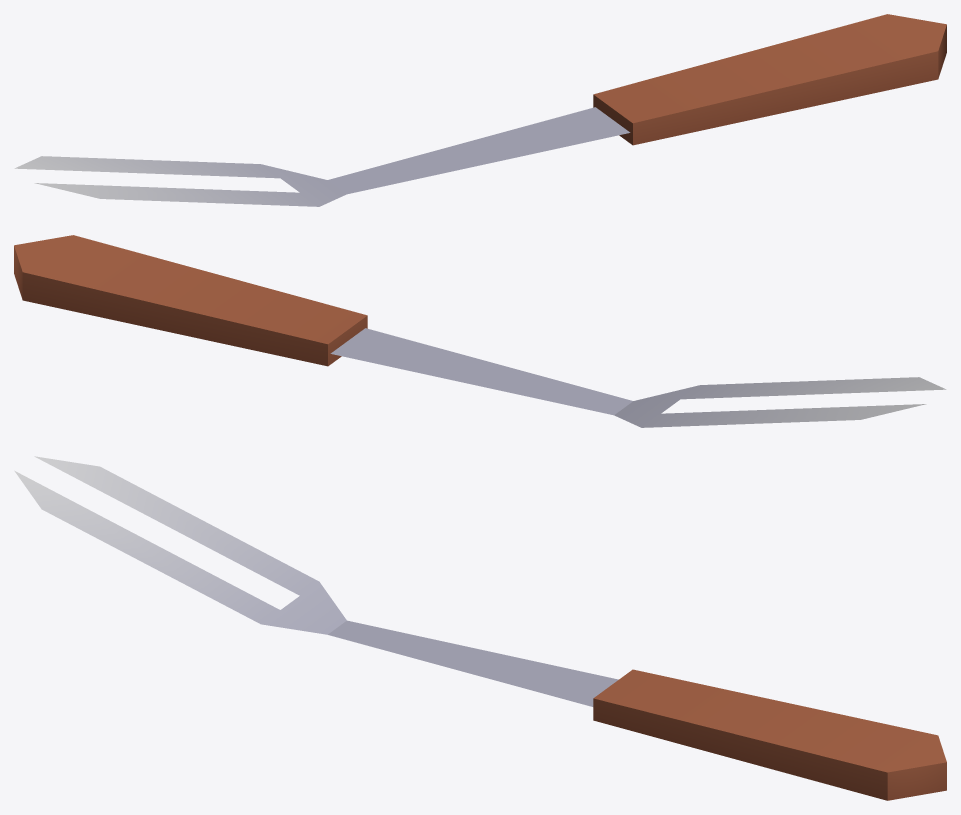
Rendered from cooking-fork.glb.
3 views of the same model, one above another, from view 1: azimuth 30°, elevation 25°; view 2: azimuth 150°, elevation 25°; view 3: azimuth 330°, elevation 25° (orthographic).
Visible parts, largest first — view 1: cooking-fork; view 2: cooking-fork; view 3: cooking-fork.
Part boxes in pixels (x1,y1,x2,y2): cooking-fork: (14, 14, 946, 206); cooking-fork: (14, 235, 946, 427); cooking-fork: (14, 456, 946, 800).
Bounding box in the file's own units: 0.6827 × 0.0721 × 0.0749.
